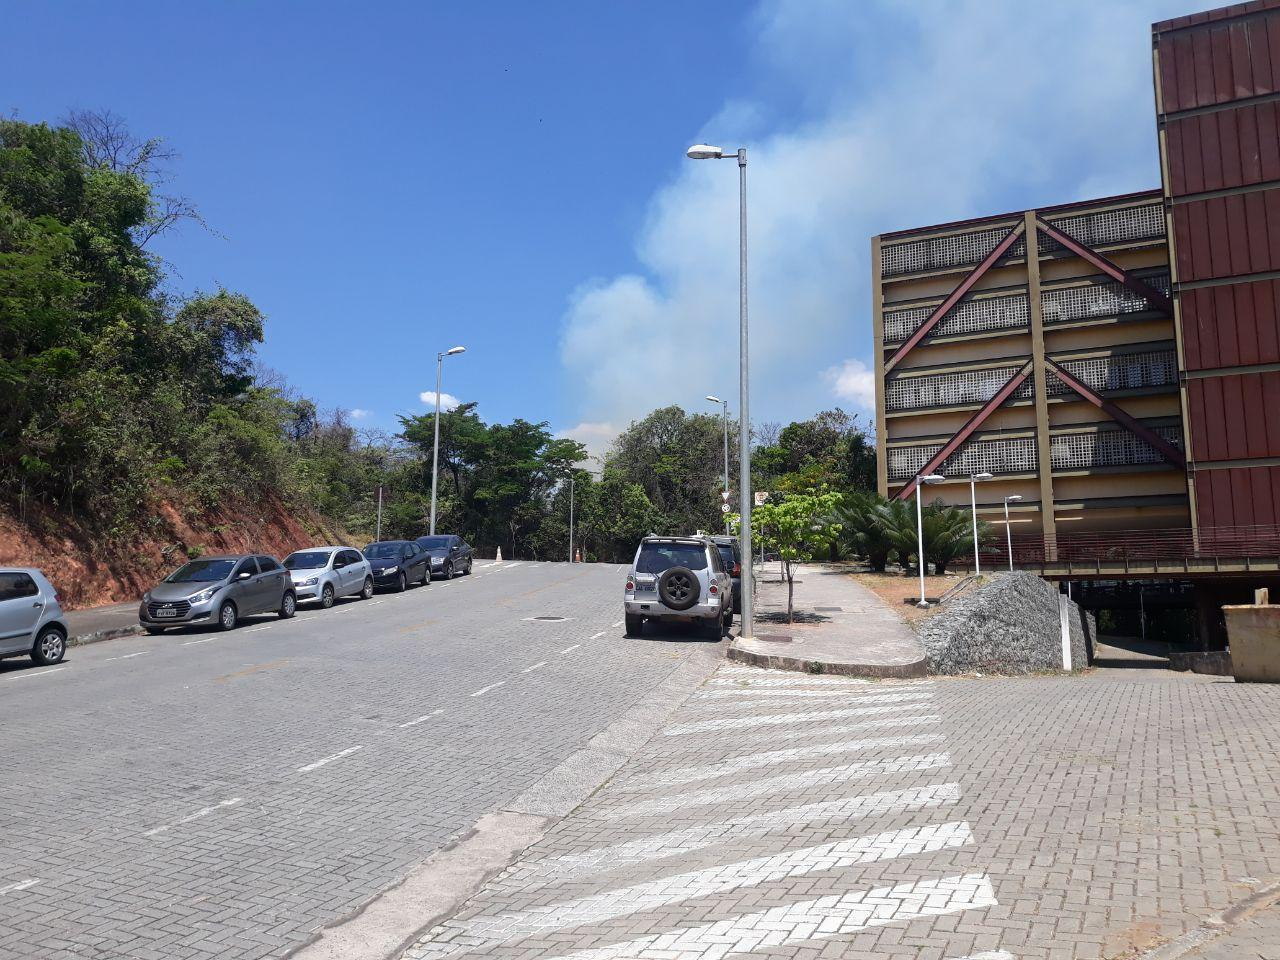smoke: (615, 200, 745, 392), (760, 150, 845, 353)
